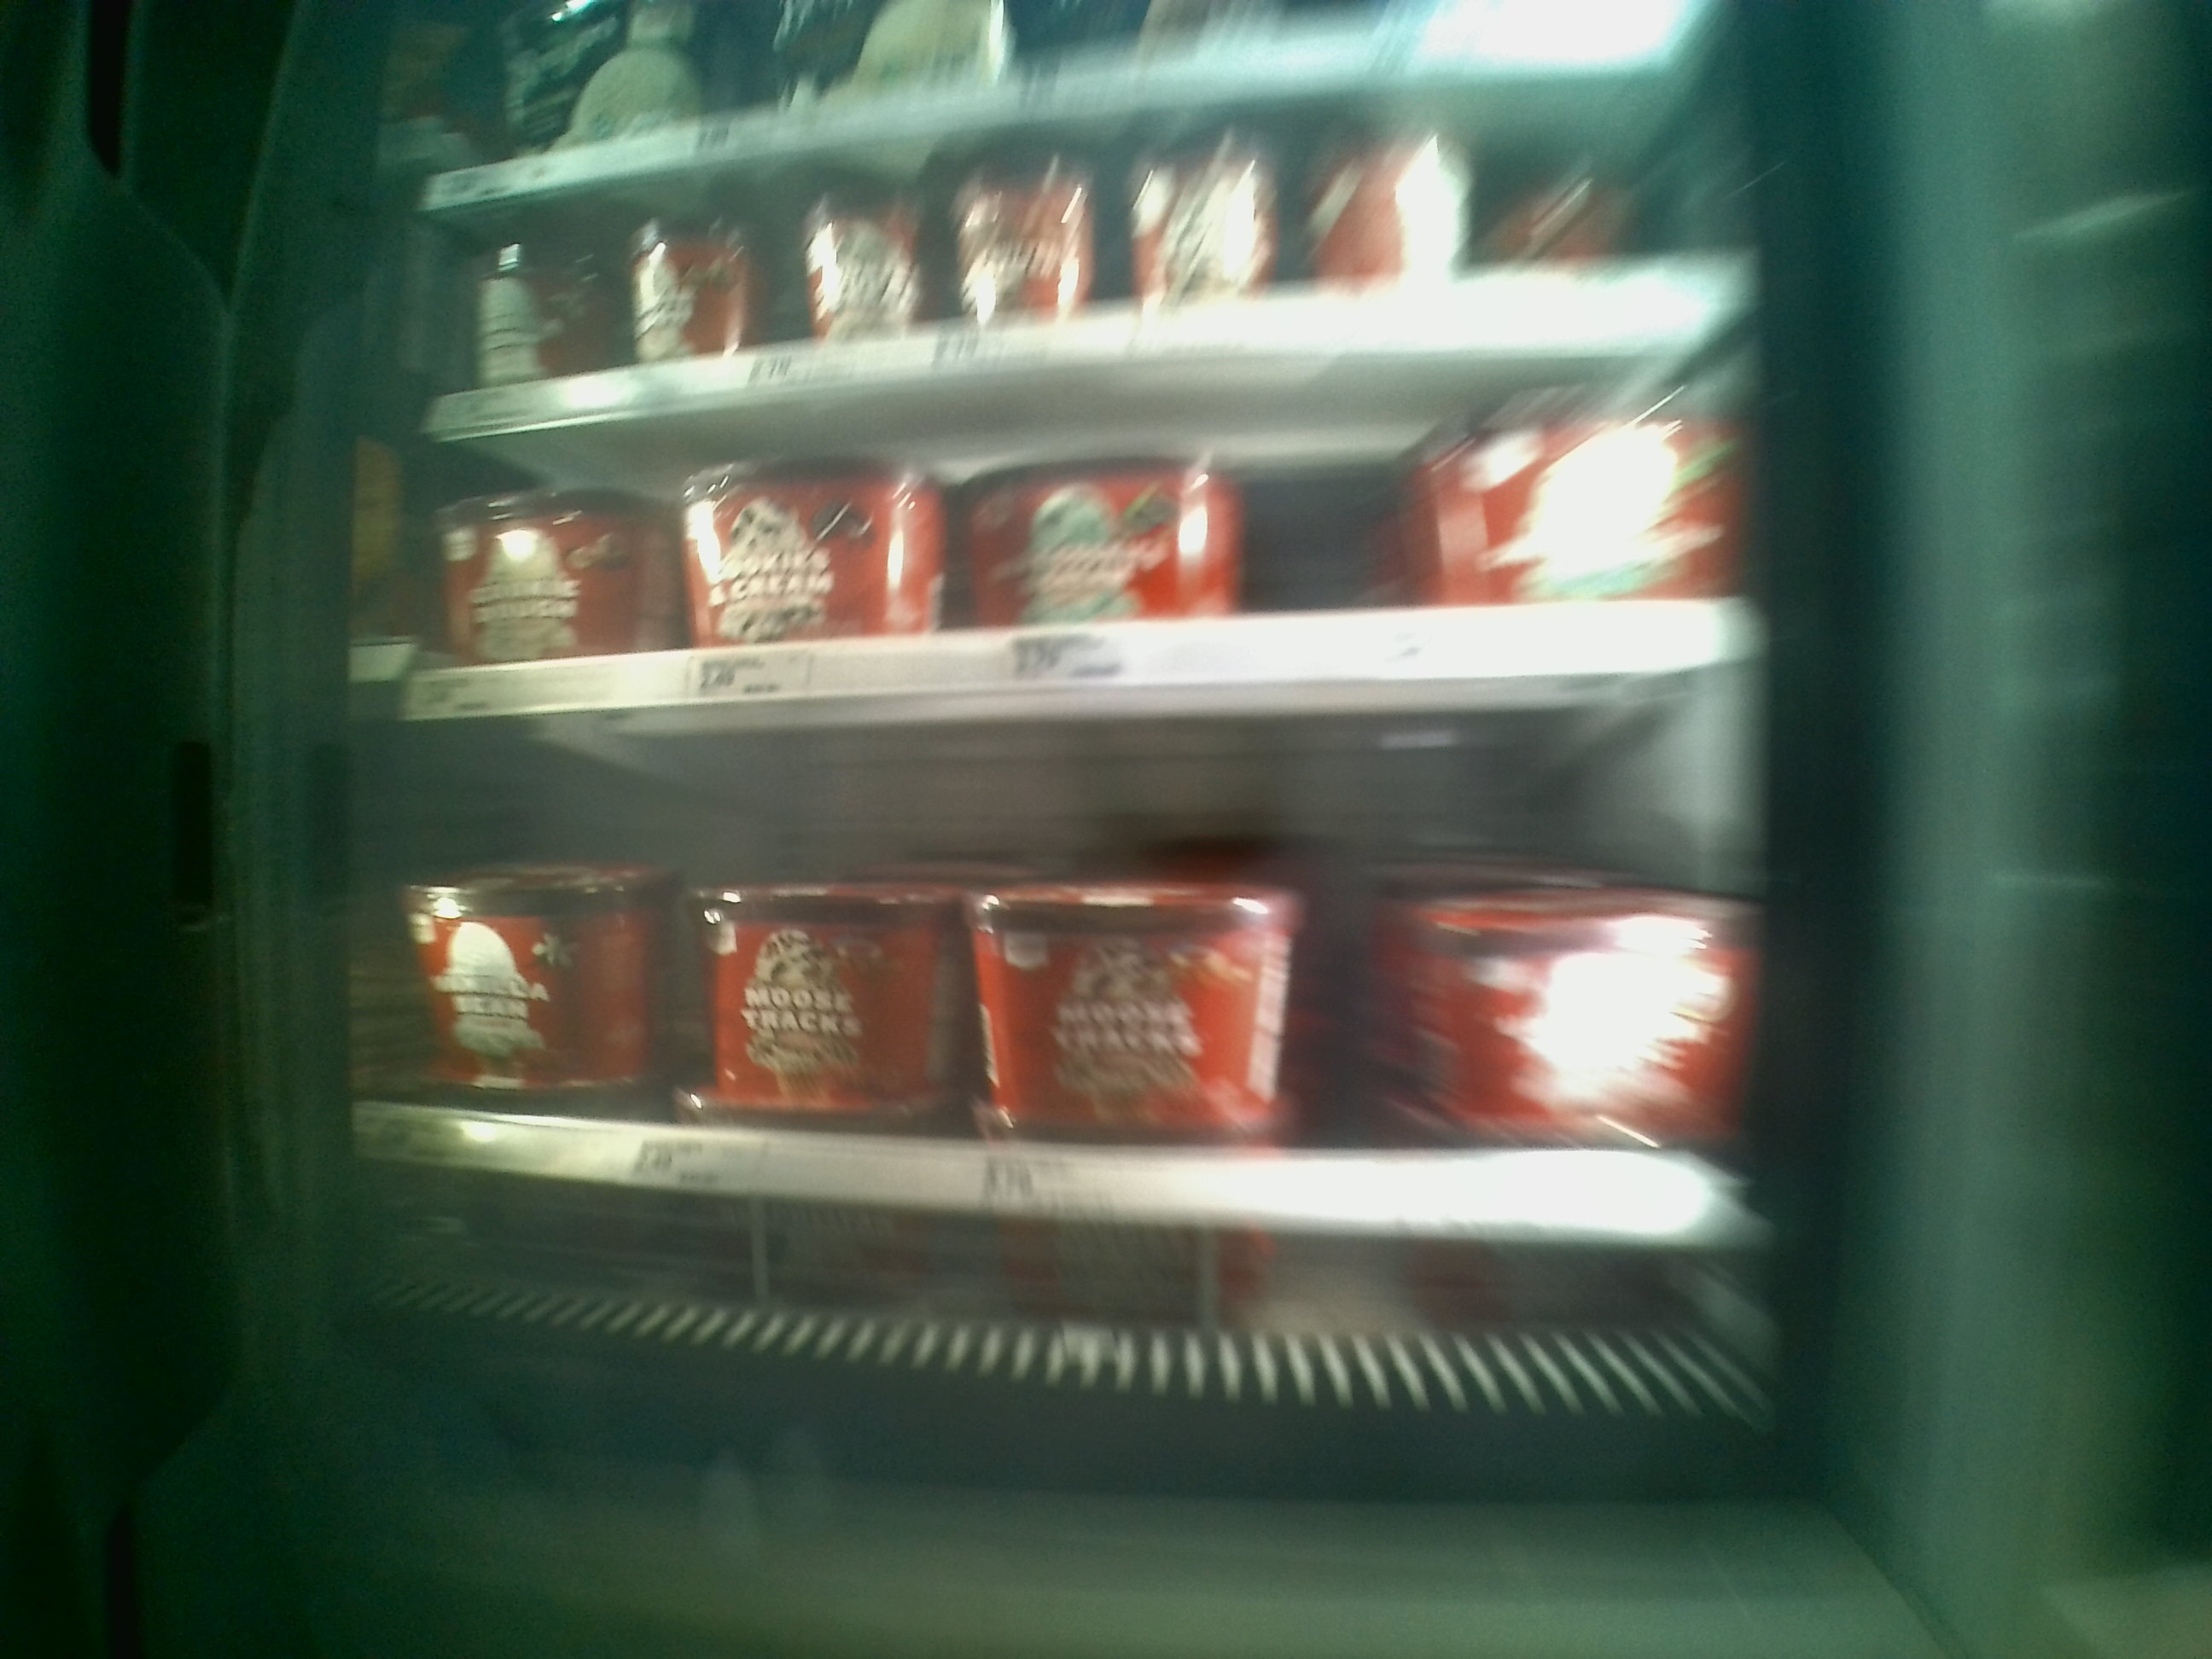shelf: (359, 667, 1749, 1333), (395, 331, 1754, 727)
